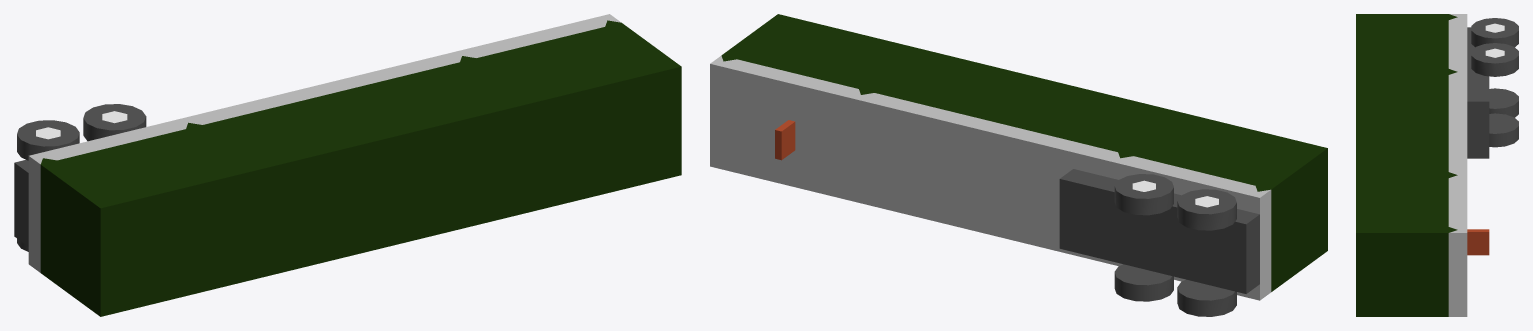
Rendered from trailer_2.dae.
The picture shows the model from 3 angles, left to right: view 1: azimuth 30°, elevation 25°; view 2: azimuth 150°, elevation 25°; view 3: azimuth 270°, elevation 25°; orthographic projection. The views are drawn at different scales.
Visible parts, largest first — view 1: coords_ME_ID19_MA_material_1, coords_ME_ID3_MA_material_11, coords_ME_ID35_MA_material; view 2: coords_ME_ID3_MA_material_11, coords_ME_ID19_MA_material_1, coords_ME_ID35_MA_material, coords_ME_ID11_MA_material_14; view 3: coords_ME_ID19_MA_material_1, coords_ME_ID35_MA_material, coords_ME_ID3_MA_material_11, coords_ME_ID11_MA_material_14, coords_ME_ID49_MA_material_25, coords_ME_ID55_MA_material_25.
Boxes of the visible parts, x1,y1,x2,y2 form: coords_ME_ID19_MA_material_1: [40, 20, 681, 316]; coords_ME_ID3_MA_material_11: [28, 14, 620, 272]; coords_ME_ID35_MA_material: [14, 104, 146, 251]; coords_ME_ID3_MA_material_11: [710, 55, 1271, 300]; coords_ME_ID19_MA_material_1: [721, 14, 1327, 291]; coords_ME_ID35_MA_material: [1059, 169, 1259, 316]; coords_ME_ID11_MA_material_14: [775, 120, 795, 160]; coords_ME_ID19_MA_material_1: [1356, 14, 1457, 316]; coords_ME_ID35_MA_material: [1467, 18, 1518, 158]; coords_ME_ID3_MA_material_11: [1448, 14, 1467, 316]; coords_ME_ID11_MA_material_14: [1467, 229, 1489, 255]; coords_ME_ID49_MA_material_25: [1485, 23, 1504, 32]; coords_ME_ID55_MA_material_25: [1485, 48, 1504, 57].
Size of the model in its own units: 95.24 by 17.01 by 29.9.
